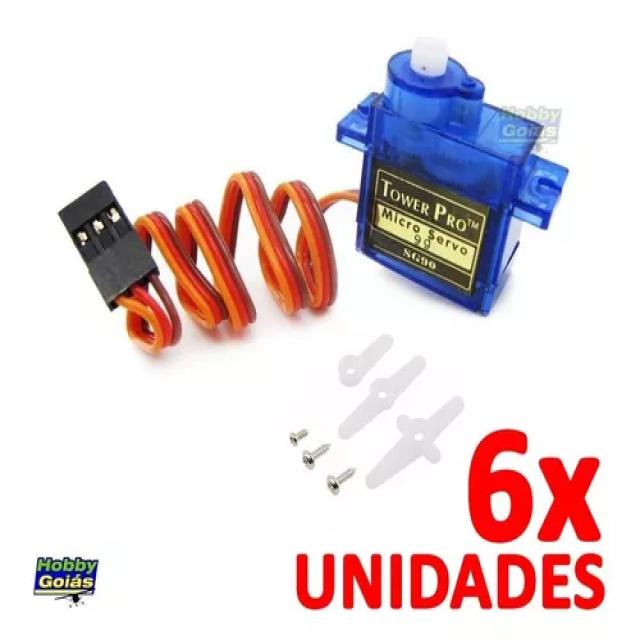motor: (335, 40, 572, 316)
